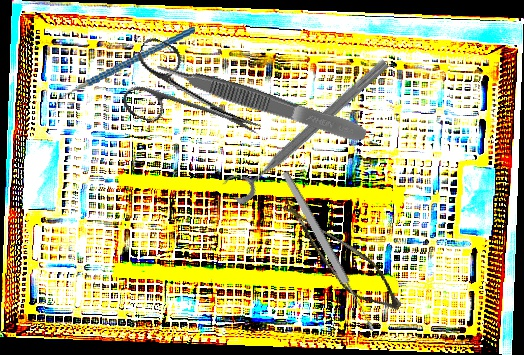Chopper: (44, 26, 204, 112)
Fixation Ring: (220, 46, 393, 207)
Iris Scissors: (115, 34, 276, 165)
Micro Scissor: (259, 198, 418, 319)
Surgical Spoon: (279, 169, 378, 334)
Tissue Forceps: (154, 53, 369, 148)
